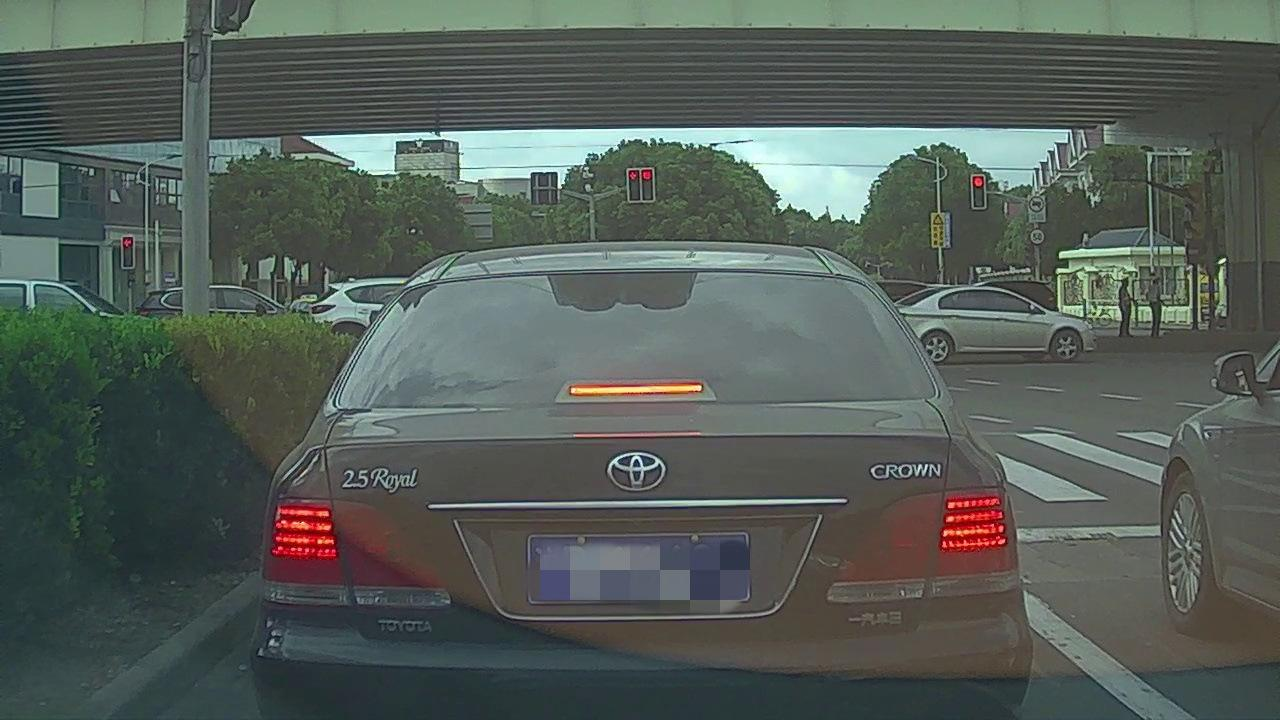traffic_light: (971, 175, 985, 209), (626, 169, 640, 202), (640, 169, 654, 200), (122, 235, 131, 269)
